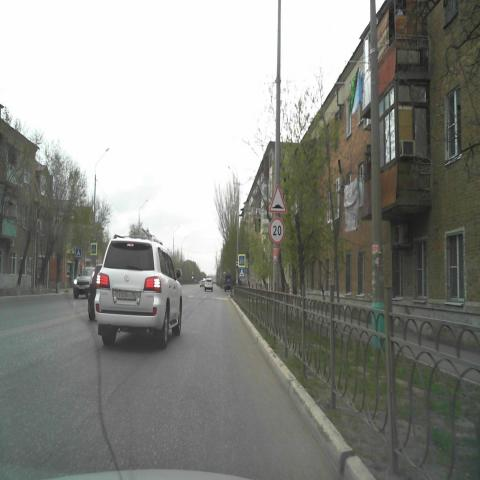3_24: (269, 216, 285, 245)
